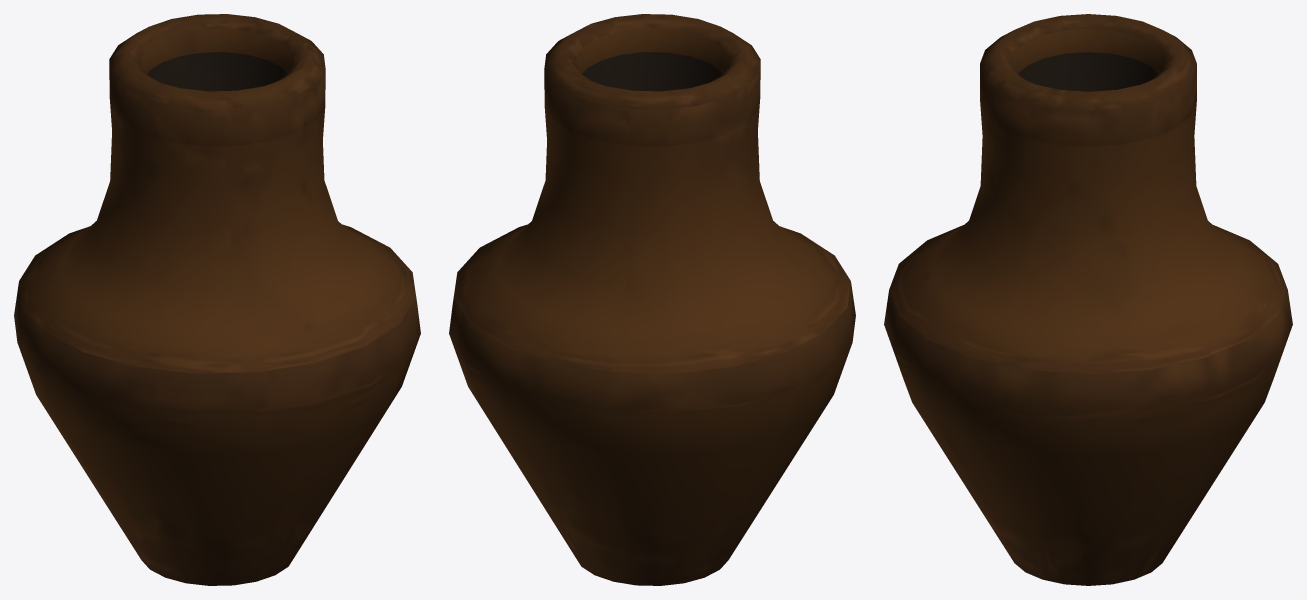
The model's file is prop_vase.glb.
3 views of the same model, side by side, from view 1: azimuth 30°, elevation 25°; view 2: azimuth 150°, elevation 25°; view 3: azimuth 270°, elevation 25° (orthographic).
Visible parts, largest first — view 1: Vase_4; view 2: Vase_4; view 3: Vase_4.
Part boxes in pixels (<box>): Vase_4: <box>14,14,420,585</box>; Vase_4: <box>449,14,855,585</box>; Vase_4: <box>884,14,1292,585</box>.
Size of the model in its own units: 0.3596 by 0.4855 by 0.3596.
Materials: 1 (1 with a texture image).
